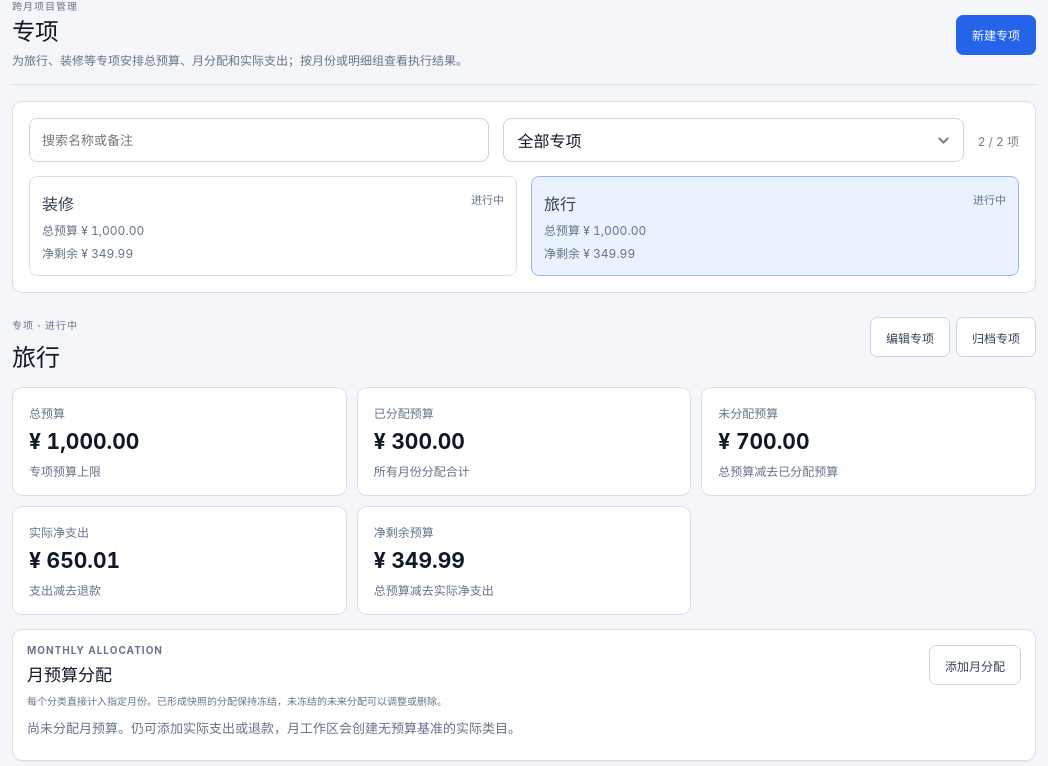
specials page › selects the deep-linked project and updates the URL when the user chooses another
Expected: the heading "旅行" is shown, [12,343,60,372]
Step 1. Click the button "装修 进行中 总预算 ¥ 1,000.00 净剩余 ¥ 349.99" → (58, 204), box [29,176,517,276]
(page scrolled)
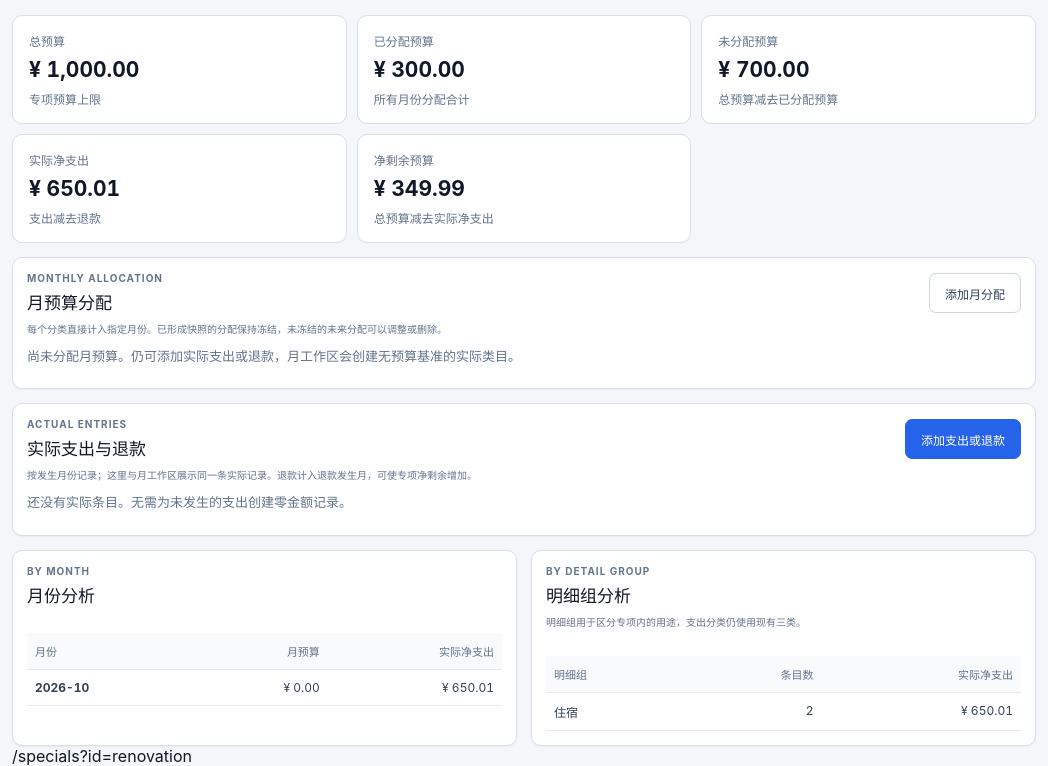
Result: the text named "当前地址" reads "/specials?id=renovation" at [12,746,192,765]
